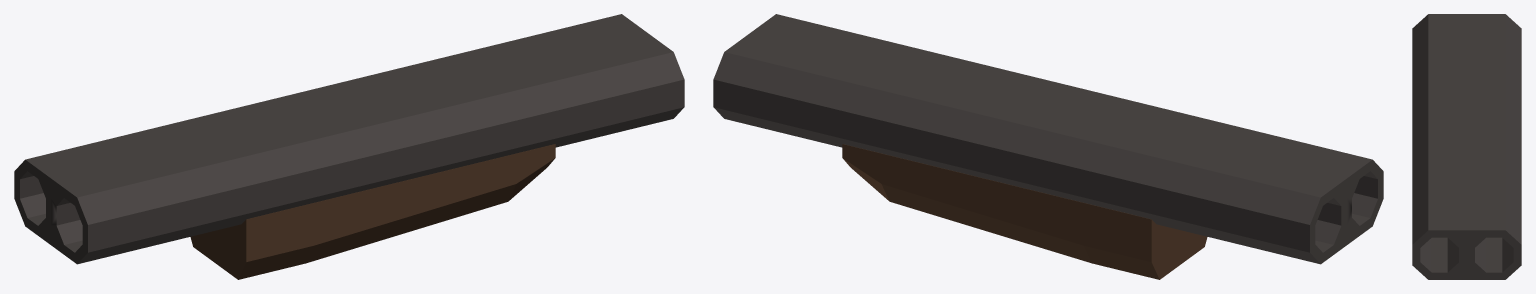
The model's file is Shotgun4_06_2.fbx.
The picture shows the model from 3 angles, left to right: view 1: azimuth 30°, elevation 25°; view 2: azimuth 150°, elevation 25°; view 3: azimuth 270°, elevation 25°; orthographic projection. The views are drawn at different scales.
Parts seen in each view (by area): view 1: Shotgun4_06_2; view 2: Shotgun4_06_2; view 3: Shotgun4_06_2.
Part boxes in pixels (box(x1,y1,x2,y2)): Shotgun4_06_2: box(14, 14, 684, 279); Shotgun4_06_2: box(713, 14, 1383, 279); Shotgun4_06_2: box(1412, 14, 1521, 279).
Bounding box in the file's own units: 0.2847 × 0.057 × 0.0608.
